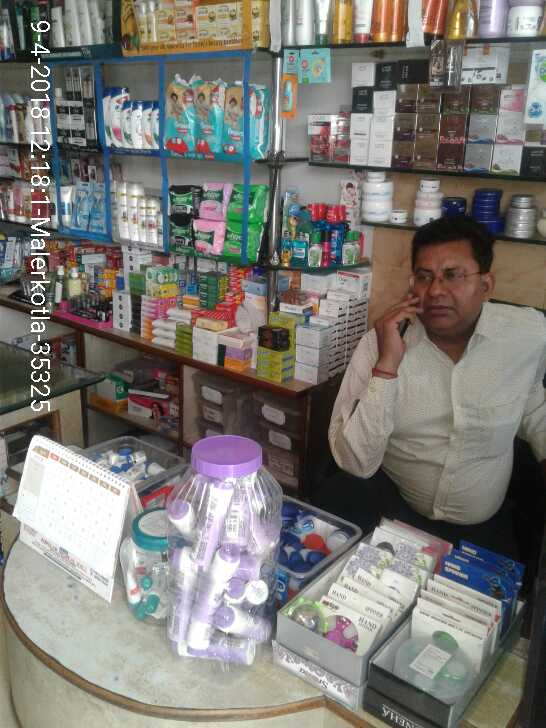venus: (90, 183, 106, 232), (74, 181, 87, 230)
